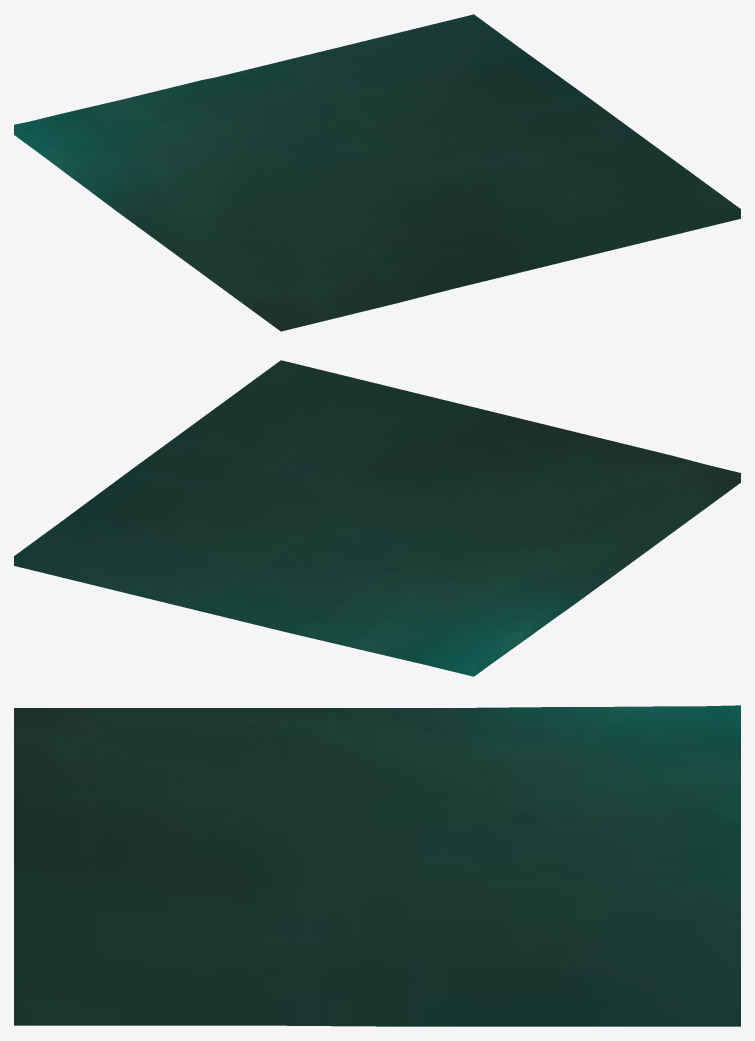
The model's file is z17-20975-50652-h0-yup-uvflip-v3-world.glb.
3 views of the same model, one above another, from view 1: azimuth 30°, elevation 25°; view 2: azimuth 150°, elevation 25°; view 3: azimuth 270°, elevation 25° (orthographic). The views are drawn at different scales.
Size of the model in its own units: 241 by 5.76 by 243.
Materials: 1 (1 with a texture image).
